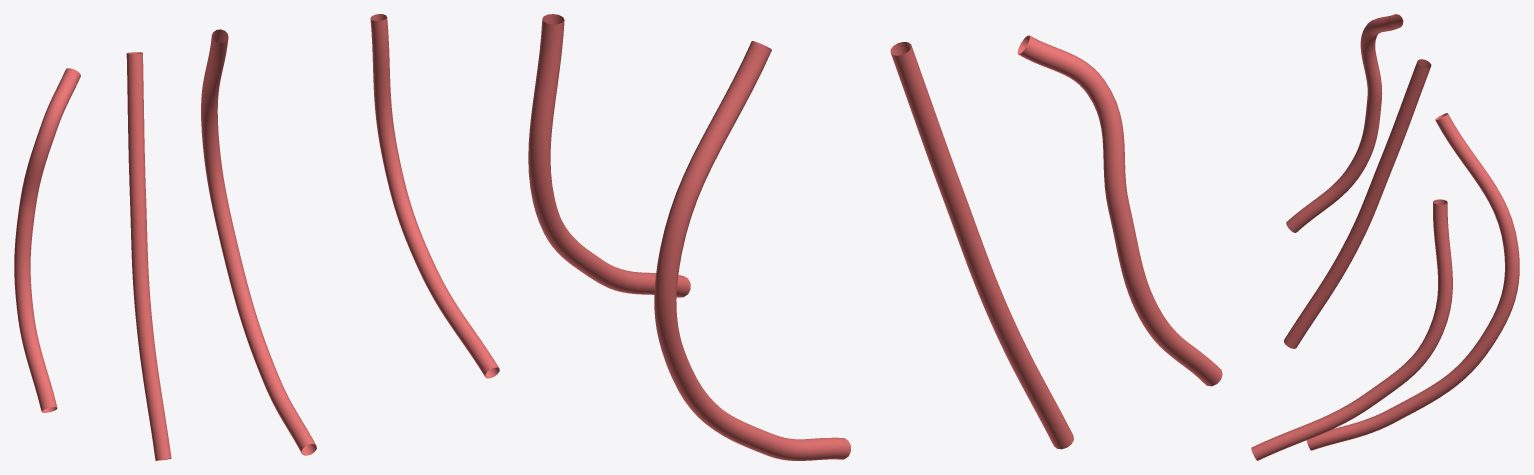
The model's file is Palmar_metacarpal_arteries.r_BezierCurve.378.glb.
3 views of the same model, side by side, from view 1: azimuth 30°, elevation 25°; view 2: azimuth 150°, elevation 25°; view 3: azimuth 270°, elevation 25° (orthographic). The views are drawn at different scales.
Visible parts, largest first — view 1: Palmar_metacarpal_arteries.r_BezierCurve.378; view 2: Palmar_metacarpal_arteries.r_BezierCurve.378; view 3: Palmar_metacarpal_arteries.r_BezierCurve.378.
Part boxes in pixels (left/top/right/bottom): Palmar_metacarpal_arteries.r_BezierCurve.378: left=14, top=14, right=499, bottom=460; Palmar_metacarpal_arteries.r_BezierCurve.378: left=528, top=14, right=1222, bottom=460; Palmar_metacarpal_arteries.r_BezierCurve.378: left=1251, top=14, right=1519, bottom=460.
Bounding box in the file's own units: 0.0421 × 0.0367 × 0.0253.
